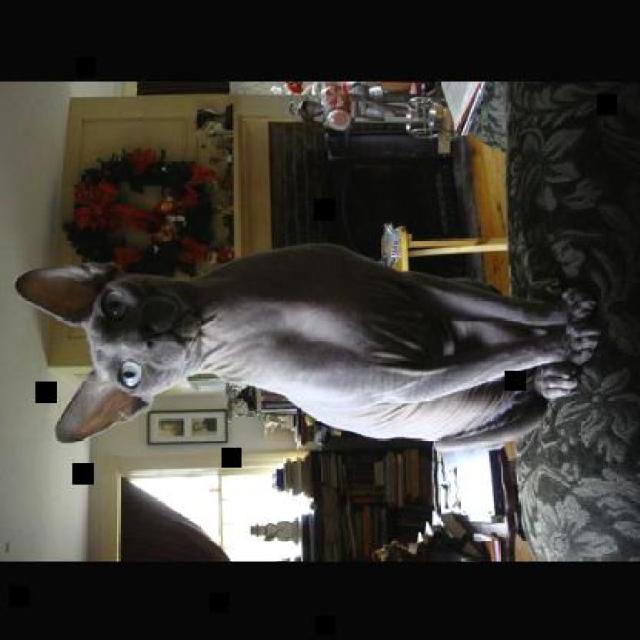unauthorized: (14, 242, 603, 448)
